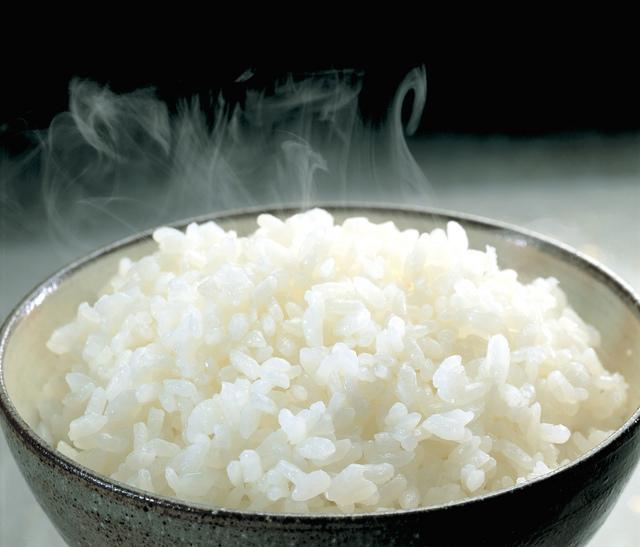rice: (10, 209, 639, 514)
